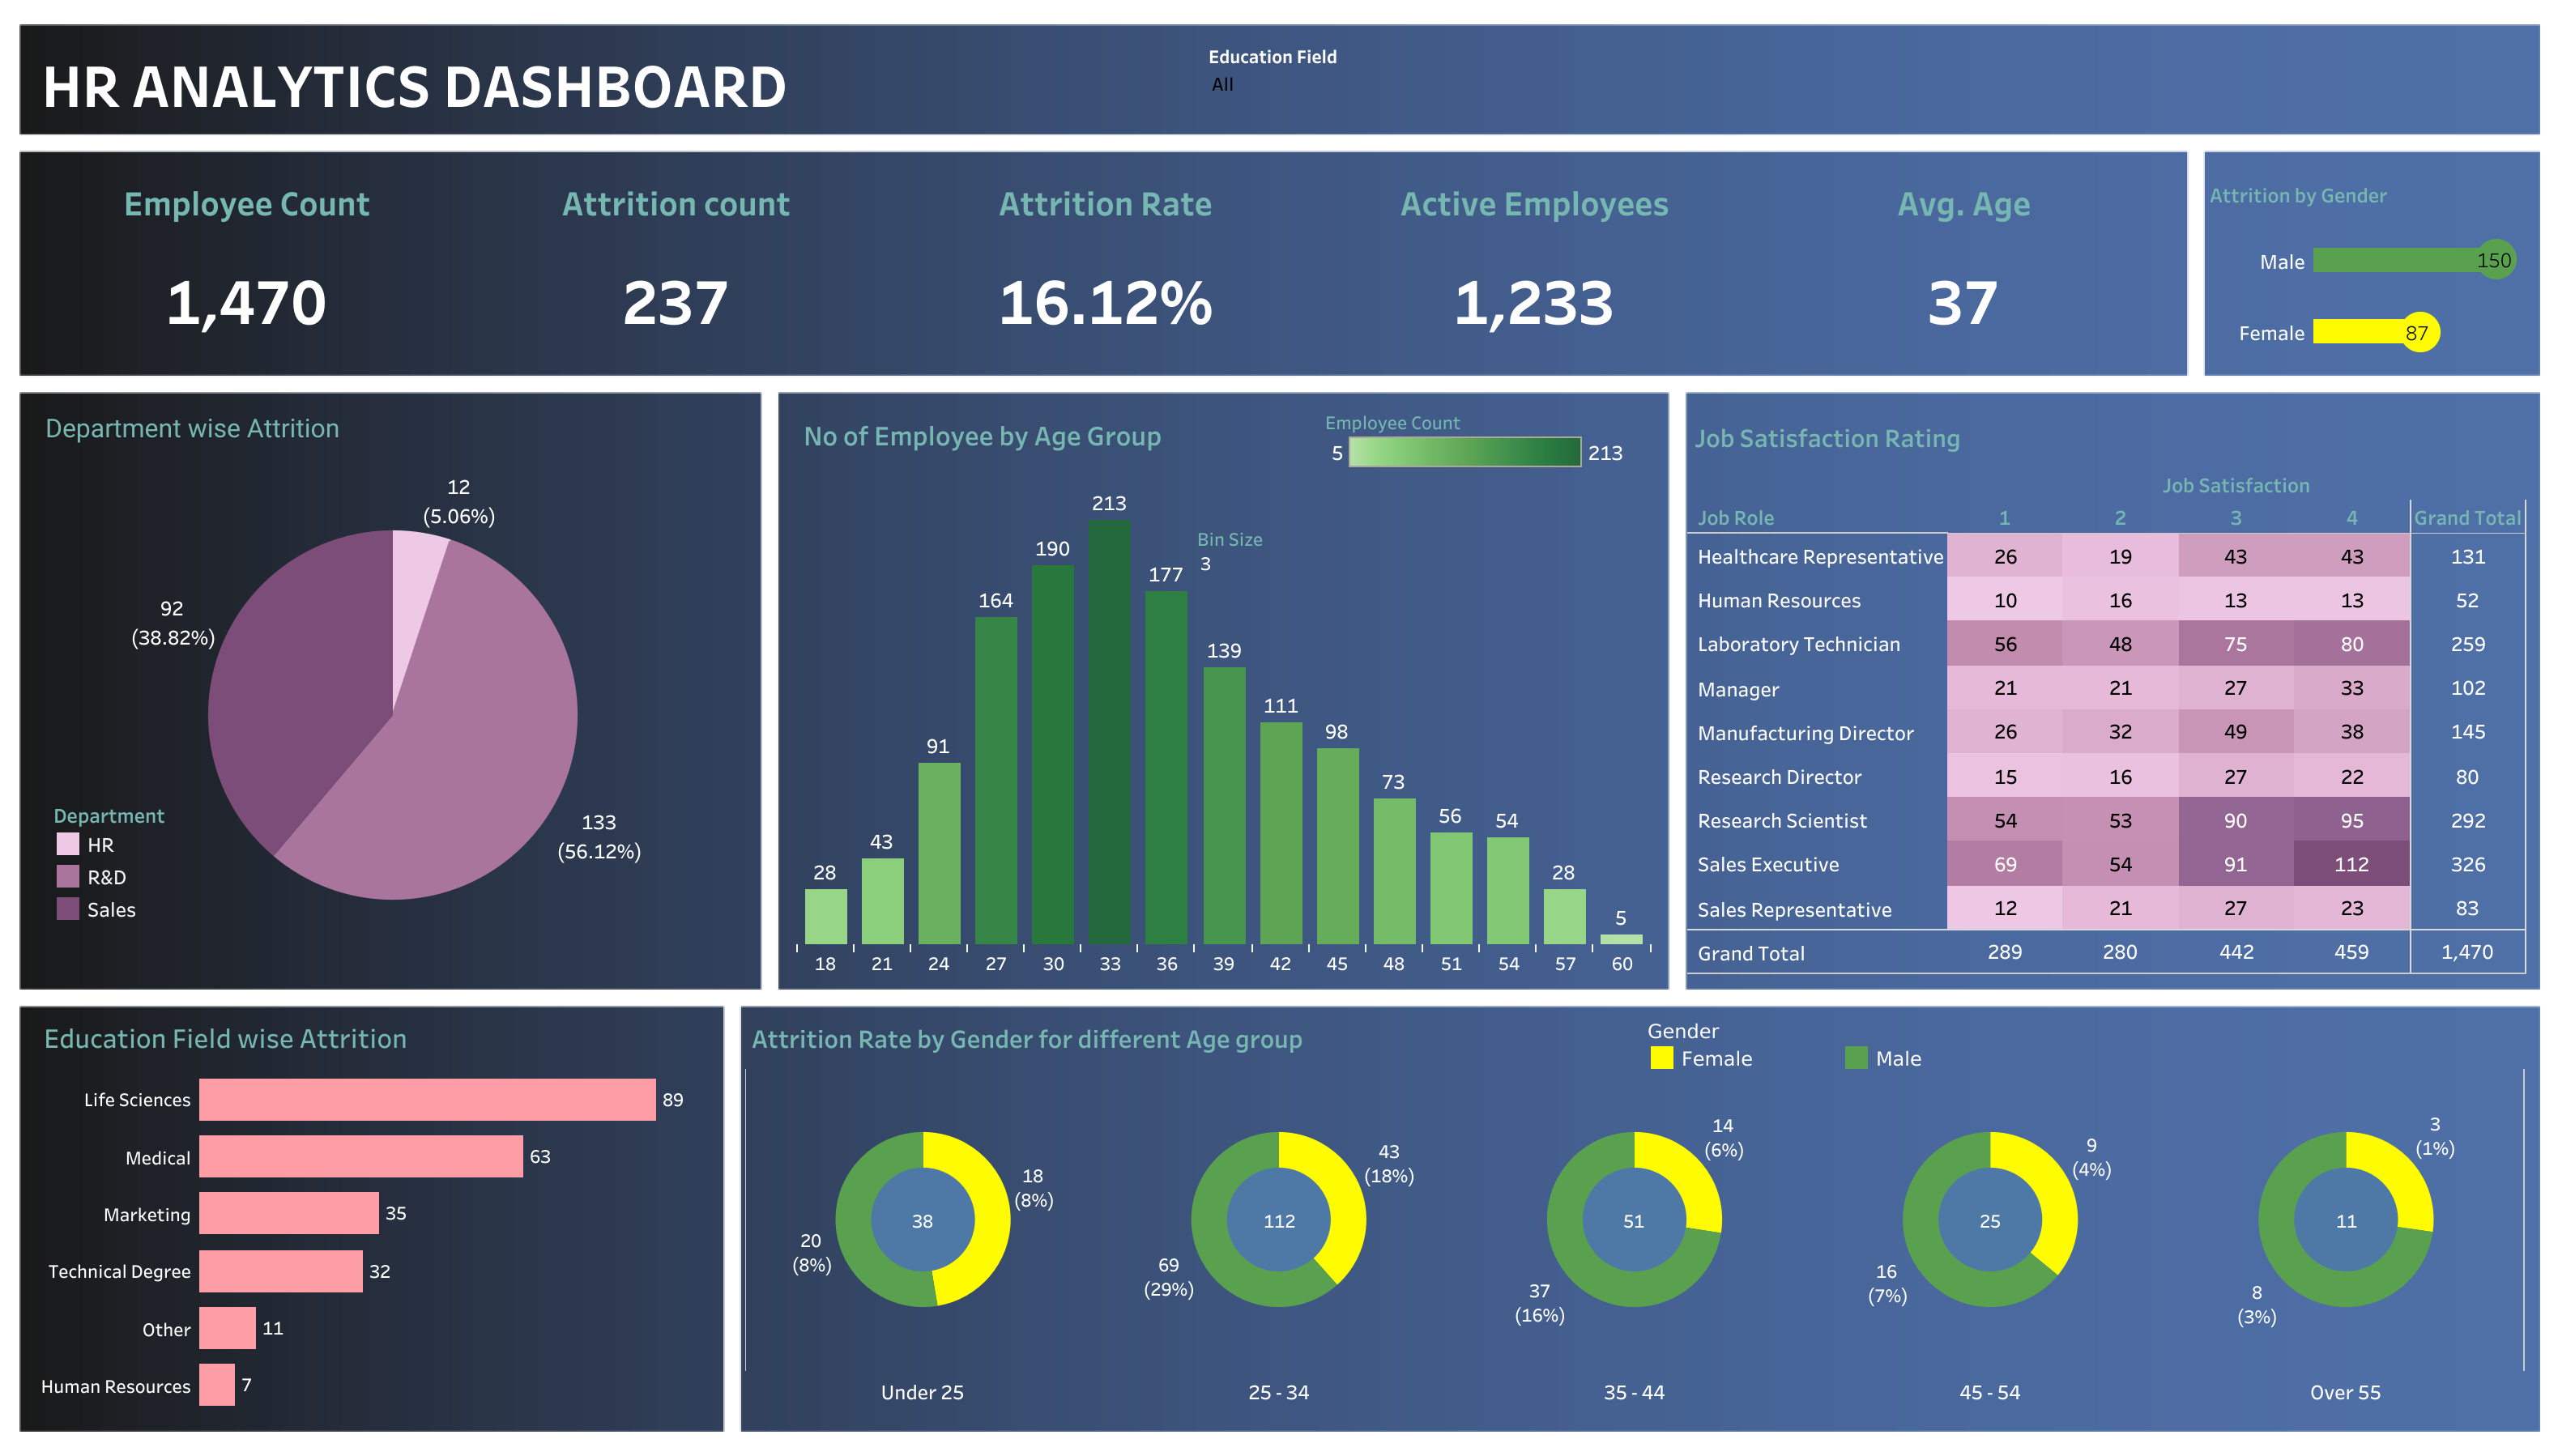

The page's visual inventory and layout, read from the dashboard file:
{"tool":"tableau","page":{"name":"HR ANALYTIC DASHBOARD","canvas":[1000,1000],"units":"permille","ordinal":0},"visuals":[{"type":"image","param":"Image/Picture 1.png","box":[5.1,8.9,989.9,982.2]},{"type":"text","box":[14.5,26.9,419.3,61.2]},{"type":"filter","title":"Education Field wise Attrition","param":"[federated.06klm750buwtjp18vm6ky11pat8c].[none:Education Field:nk]","box":[472.2,28.4,198.5,62.7]},{"type":"worksheet","title":"KPI","mark":"Automatic","box":[12.8,110.5,838.6,146.3]},{"type":"worksheet","title":"Attrition by Gender","mark":"Automatic","rows":["Gender"],"cols":["Calculation_1037939018613153792","Calculation_1037939018613153792"],"box":[860.8,116.4,126.4,135.8]},{"type":"worksheet","title":"Department wise Attrition","mark":"Pie","box":[15.4,276.1,276.7,391]},{"type":"legend","title":"No of Employee by Age Group","param":"[federated.06klm750buwtjp18vm6ky11pat8c].[sum:Employee Count:qk]","box":[517.5,276.1,119.8,76.1]},{"type":"worksheet","title":"No of Employee by Age Group","mark":"Automatic","rows":["Employee Count"],"cols":["Age (bin)"],"box":[311.7,279.1,333.1,391]},{"type":"worksheet","title":"Job Satisfaction Rating","mark":"Square","rows":["Job Role"],"cols":["Job Satisfaction"],"box":[659.3,280.6,327.9,388.1]},{"type":"parameter","param":"[Parameters].[Parameter 1]","box":[467.9,359.7,180.5,40.3]},{"type":"legend","title":"Department wise Attrition","param":"[federated.06klm750buwtjp18vm6ky11pat8c].[none:Department:nk]","box":[20.5,546.3,68.3,114.9]},{"type":"worksheet","title":"Education Field wise Attrition","mark":"Automatic","rows":["Education Field"],"cols":["Calculation_1037939018613153792"],"box":[14.5,692.5,265.6,277.6]},{"type":"worksheet","title":"Attrition Rate by Gender for different Age group","mark":"Pie","rows":["Calculation_1037939018642624515","Calculation_1037939018642624515"],"cols":["CF_age band"],"box":[291.4,693.6,695,272.4]},{"type":"legend","title":"Attrition Rate by Gender for different Age group","param":"[federated.06klm750buwtjp18vm6ky11pat8c].[none:Gender:nk]","box":[643.3,697,275.4,47.8]}]}

Visuals, with their boxes on the dashboard's canvas, which has no fixed pixel size, in thousandths of its width and height (x1, y1, x2, y2). These are canvas units, not pixel positions in the 2558x1456 screenshot, which may show the page scaled, cropped or inside an application window:
image: select_region(5, 9, 995, 991)
text: select_region(14, 27, 434, 88)
"Education Field wise Attrition" filter: select_region(472, 28, 671, 91)
"KPI" worksheet: select_region(13, 110, 851, 257)
"Attrition by Gender" worksheet: select_region(861, 116, 987, 252)
"Department wise Attrition" worksheet (Pie marks): select_region(15, 276, 292, 667)
"No of Employee by Age Group" legend: select_region(518, 276, 637, 352)
"No of Employee by Age Group" worksheet: select_region(312, 279, 645, 670)
"Job Satisfaction Rating" worksheet (Square marks): select_region(659, 281, 987, 669)
parameter: select_region(468, 360, 648, 400)
"Department wise Attrition" legend: select_region(20, 546, 89, 661)
"Education Field wise Attrition" worksheet: select_region(14, 692, 280, 970)
"Attrition Rate by Gender for different Age group" worksheet (Pie marks): select_region(291, 694, 986, 966)
"Attrition Rate by Gender for different Age group" legend: select_region(643, 697, 919, 745)
